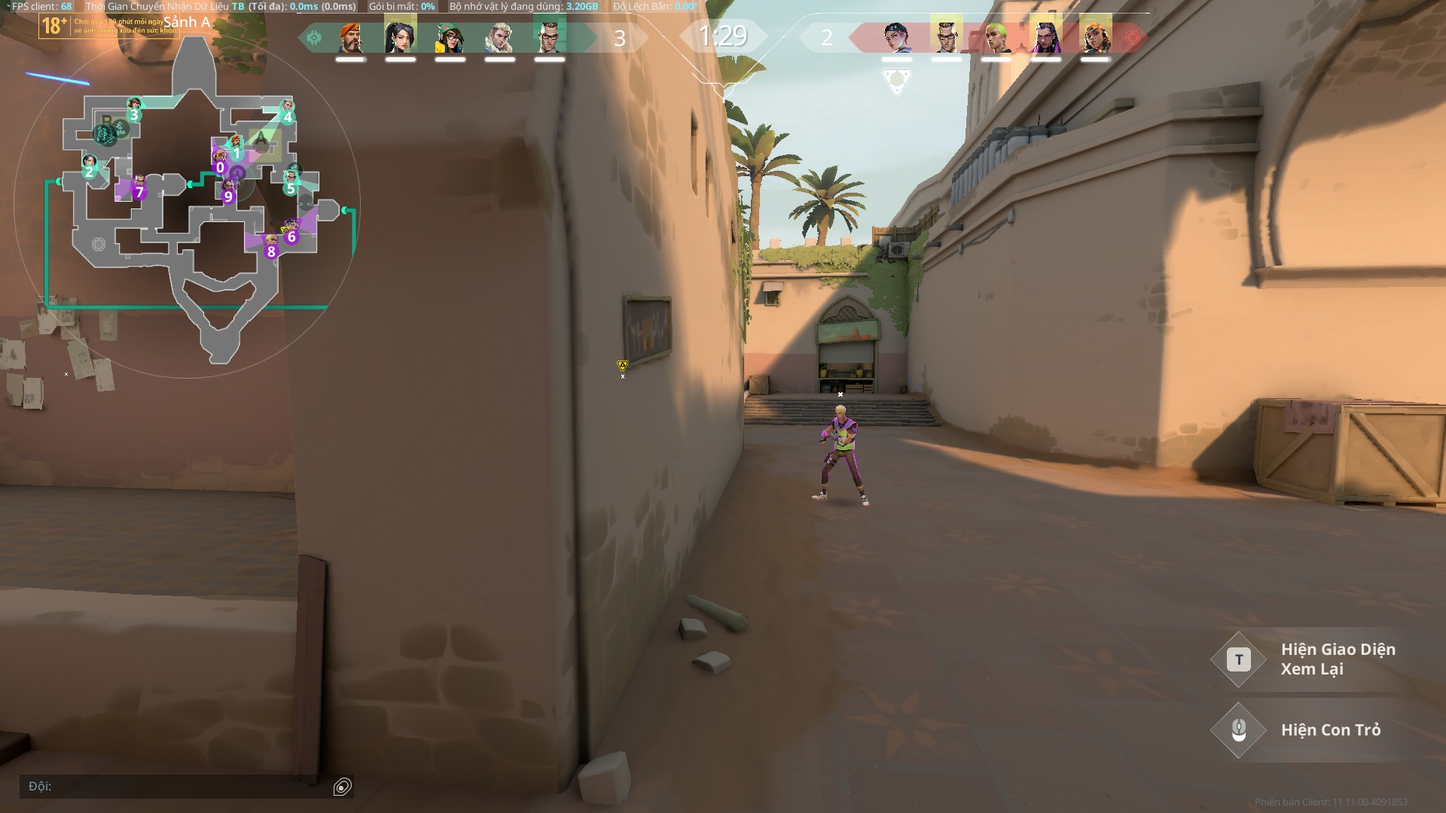body: (830, 415, 857, 449)
head: (834, 404, 846, 418)
